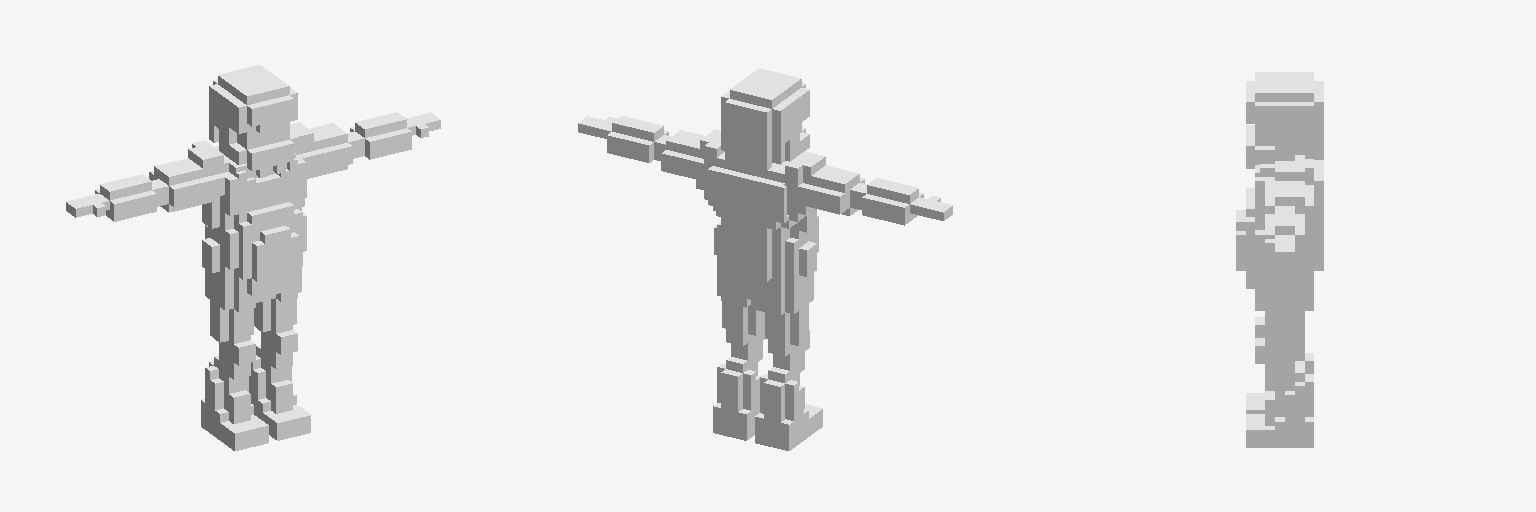
File: Character-2.obj
3 renders of one model, left to right at view 1: azimuth 30°, elevation 25°; view 2: azimuth 150°, elevation 25°; view 3: azimuth 270°, elevation 25°, orthographic.
Parts seen in each view (by area): view 1: object 1; view 2: object 1; view 3: object 1.
Part boxes in pixels (x1,y1,x2,y2): object 1: (66,65,440,450); object 1: (578,68,952,450); object 1: (1236,72,1323,447).
Bounding box in the file's own units: 8.6 × 7.8 × 1.8.